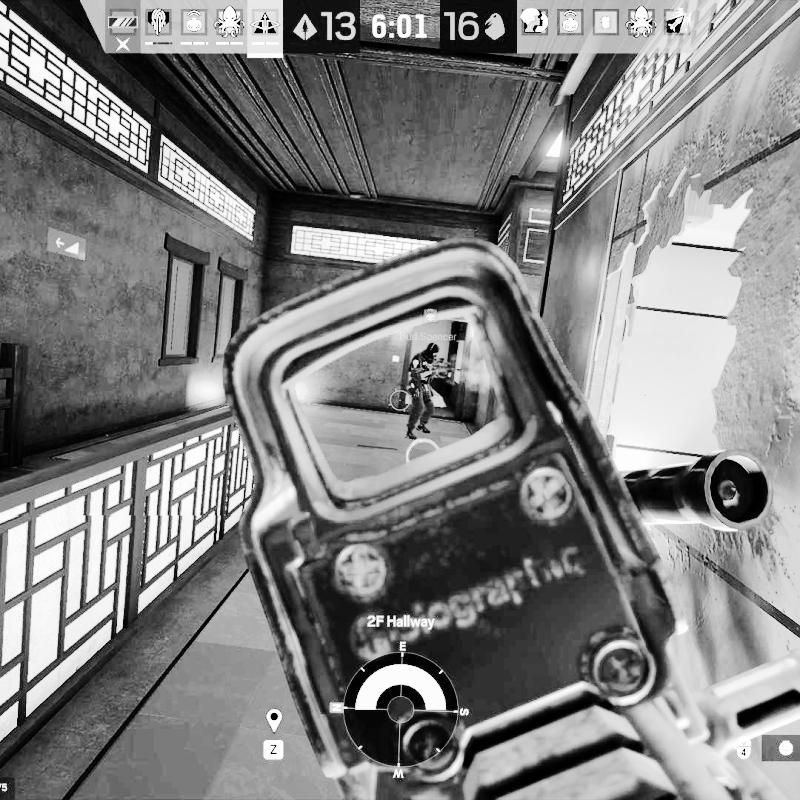Character: (404, 341, 463, 441)
Friend_label: (400, 308, 458, 342)
Head: (425, 342, 440, 358)
